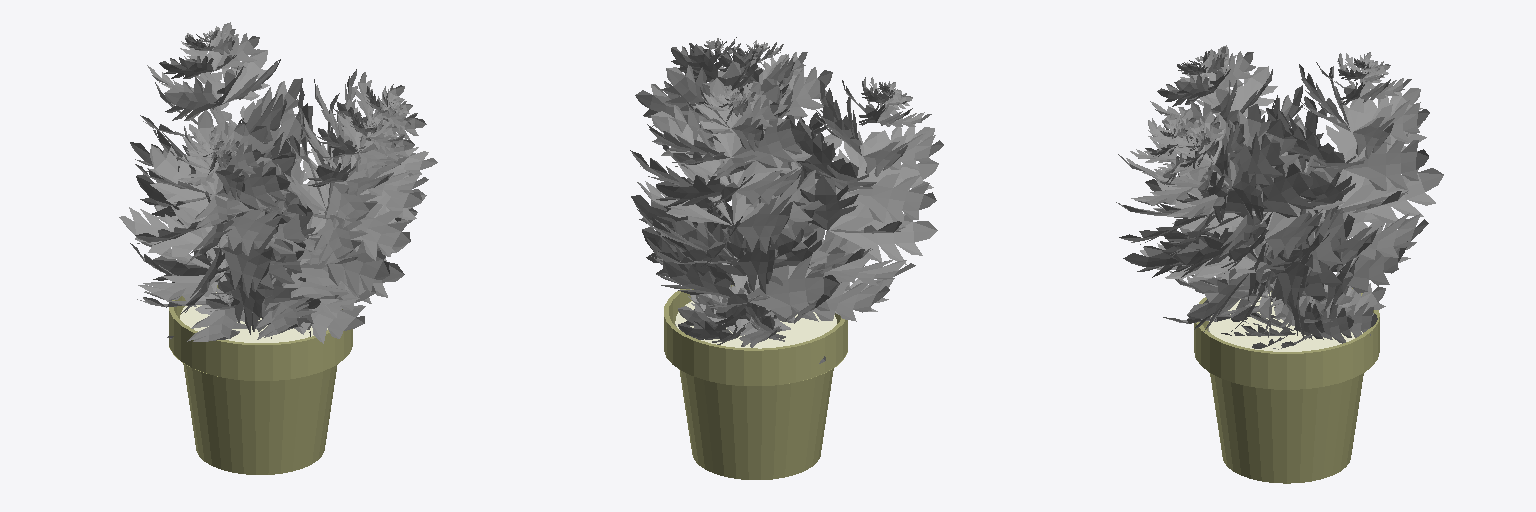
Rendered from house_plant.obj.
3 renders of one model, left to right at view 1: azimuth 30°, elevation 25°; view 2: azimuth 150°, elevation 25°; view 3: azimuth 270°, elevation 25°, orthographic.
Parts seen in each view (by area): view 1: (null); view 2: (null); view 3: (null).
Part boxes in pixels (left/top/right/bottom): (null): left=119, top=22, right=437, bottom=474; (null): left=630, top=37, right=943, bottom=479; (null): left=1116, top=45, right=1443, bottom=483.
Size of the model in its own units: 57.13 by 74.02 by 56.11.